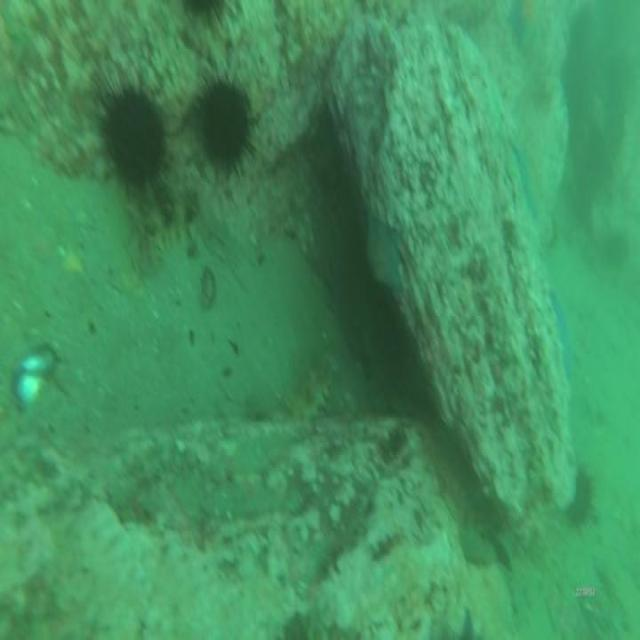echinus: (94, 73, 172, 183), (191, 70, 261, 186), (566, 464, 598, 539), (177, 0, 233, 30), (598, 224, 632, 270)
holothurian: (126, 175, 206, 256), (288, 340, 341, 419)
starfish: (363, 208, 405, 298), (548, 285, 576, 387), (512, 140, 540, 220), (505, 0, 539, 52)
